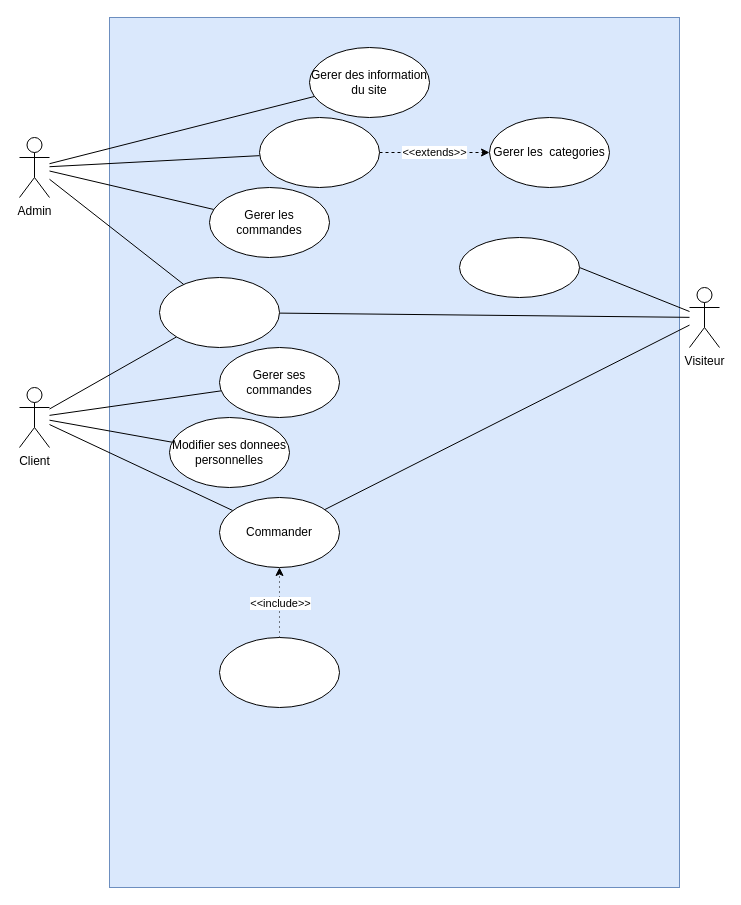
The diagram is 741 pixels wide and 905 high, and some of its shapes have lost their labels. Each missing label, with the centre of its shape:
"Afficher les produits" goes at pixel 219 312.
"Connexion" goes at pixel 279 672.
"Gerer les produits" goes at pixel 319 152.
"Inscription" goes at pixel 519 267.
